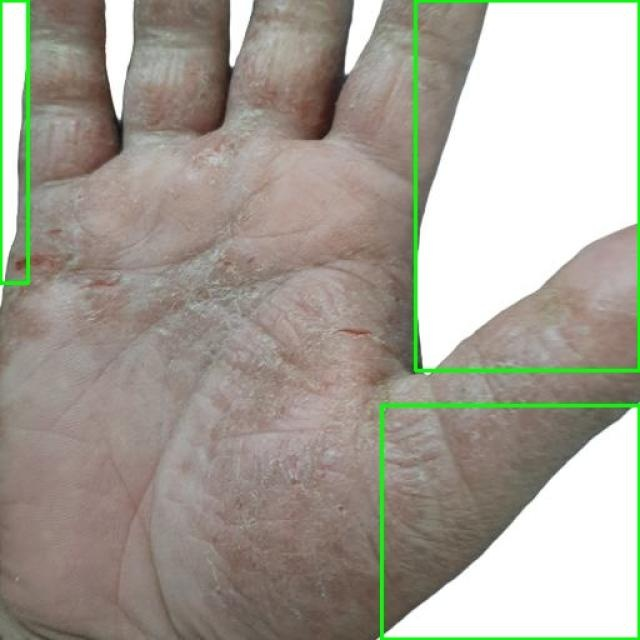Contact Dermatitis: (415, 0, 639, 370), (381, 405, 639, 639), (0, 0, 28, 282)
